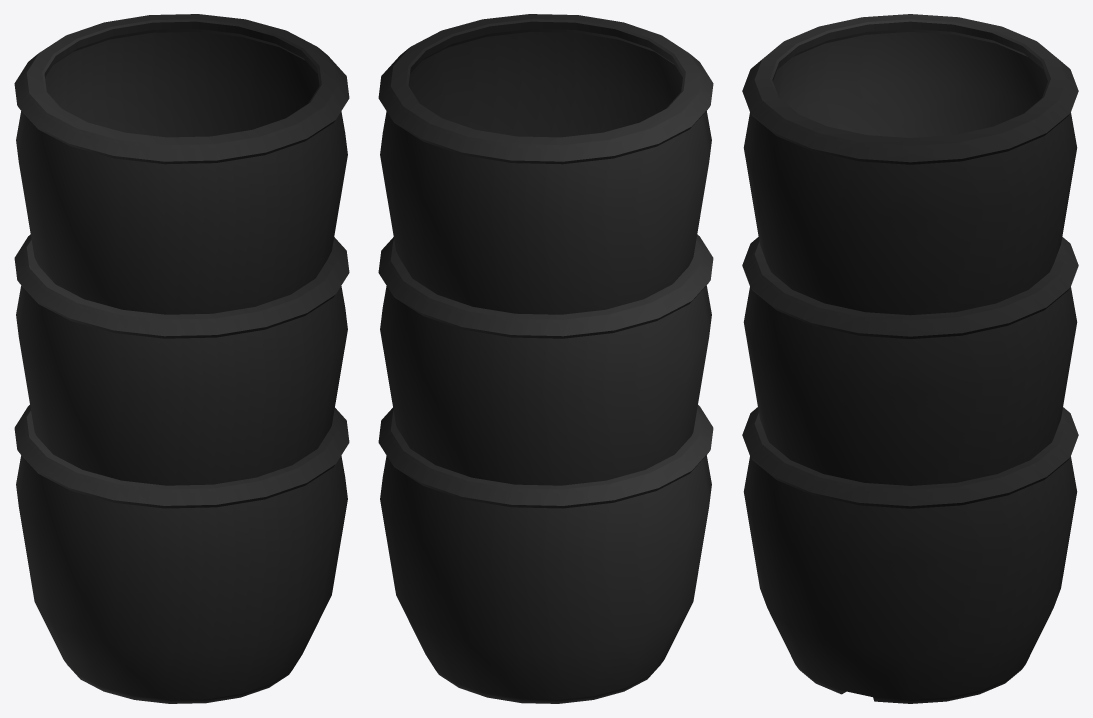
Rendered from FlowerPotStackBlack.fbx.
3 renders of one model, left to right at view 1: azimuth 30°, elevation 25°; view 2: azimuth 150°, elevation 25°; view 3: azimuth 270°, elevation 25°, orthographic.
Parts seen in each view (by area): view 1: FlowerPotStackBlack; view 2: FlowerPotStackBlack; view 3: FlowerPotStackBlack.
Boxes of the visible parts, box(x1,y1,x2,y2) form: FlowerPotStackBlack: box(14, 14, 349, 703); FlowerPotStackBlack: box(378, 14, 713, 703); FlowerPotStackBlack: box(742, 14, 1078, 703).
Size of the model in its own units: 0.7841 by 1.48 by 0.7841.
